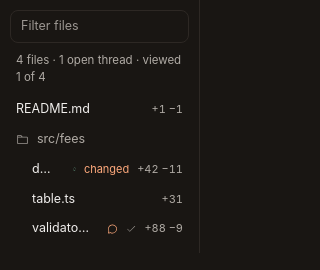
Test: PrFileTree › filters by path as you type
In the field labelled "Filter files": (100, 26) [10,10,189,43], type "readme"
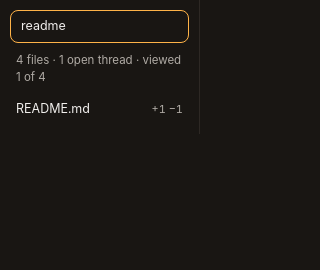
Check: the button "README.md +1 −1" is shown, box [10,95,189,124]
Check: the button "validator.ts" is gone
Check: the text "src/fees" is gone
